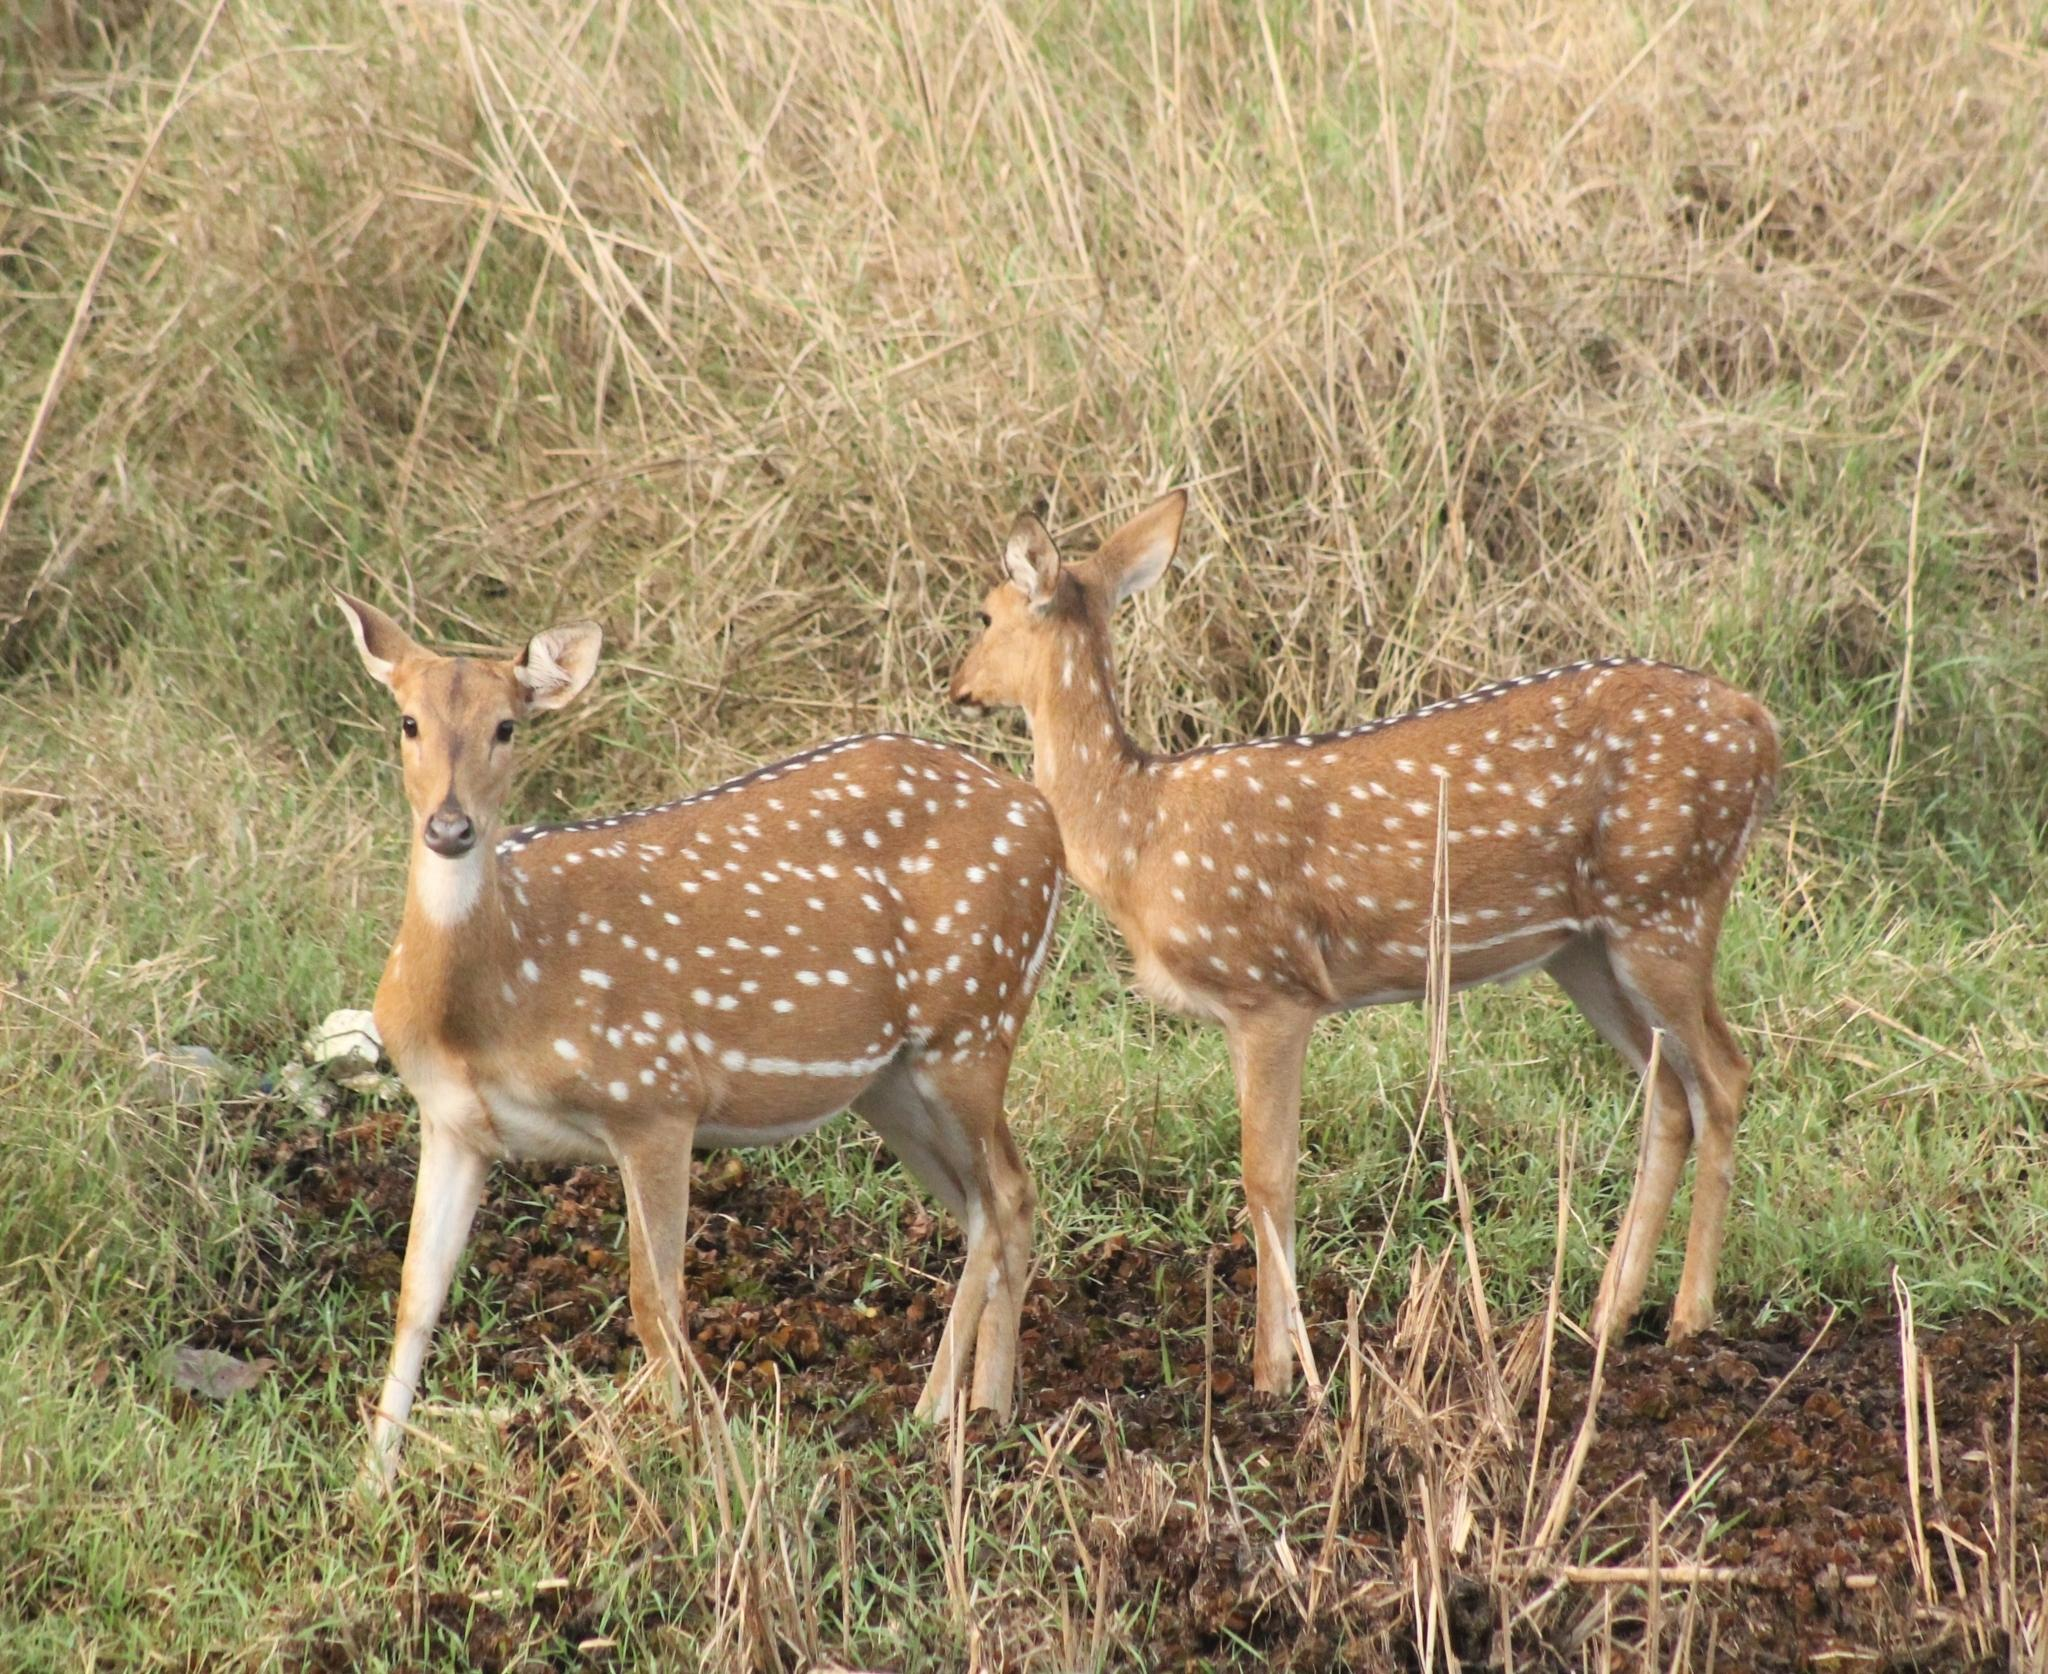Deer: (953, 492, 1779, 1392), (338, 597, 1061, 1461)
